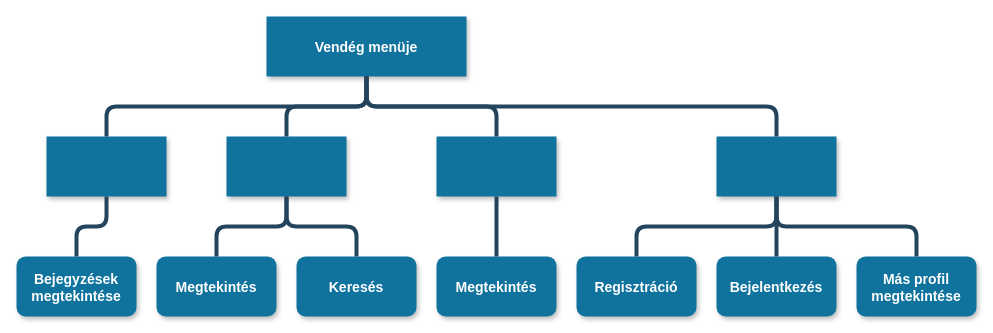
The diagram is 993 pixels wide and 333 high, and some of its shapes have lost their labels. Here are the shapes that lost their labels. From the top down, the centre of each, then its label:
At (107,167): "Főoldal".
At (287,167): "Képek".
At (497,167): "Versenyek".
At (777,167): "Profil".
